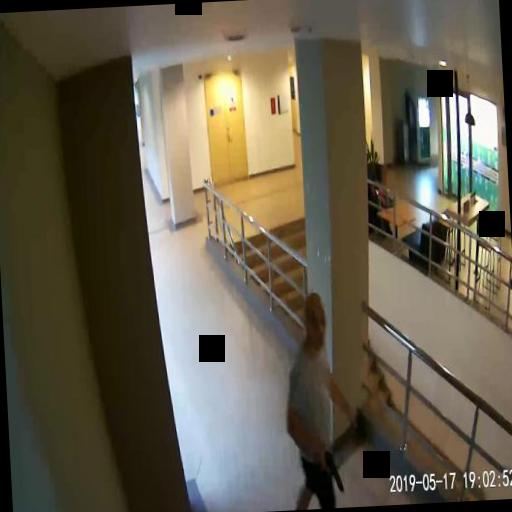Handgun: (318, 446, 344, 493)
